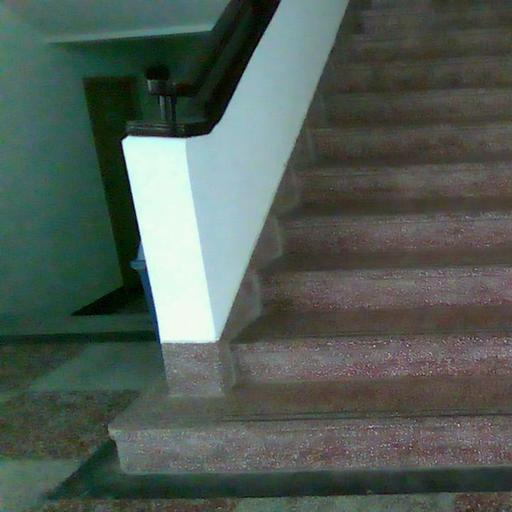Stairs: (106, 0, 512, 512)
